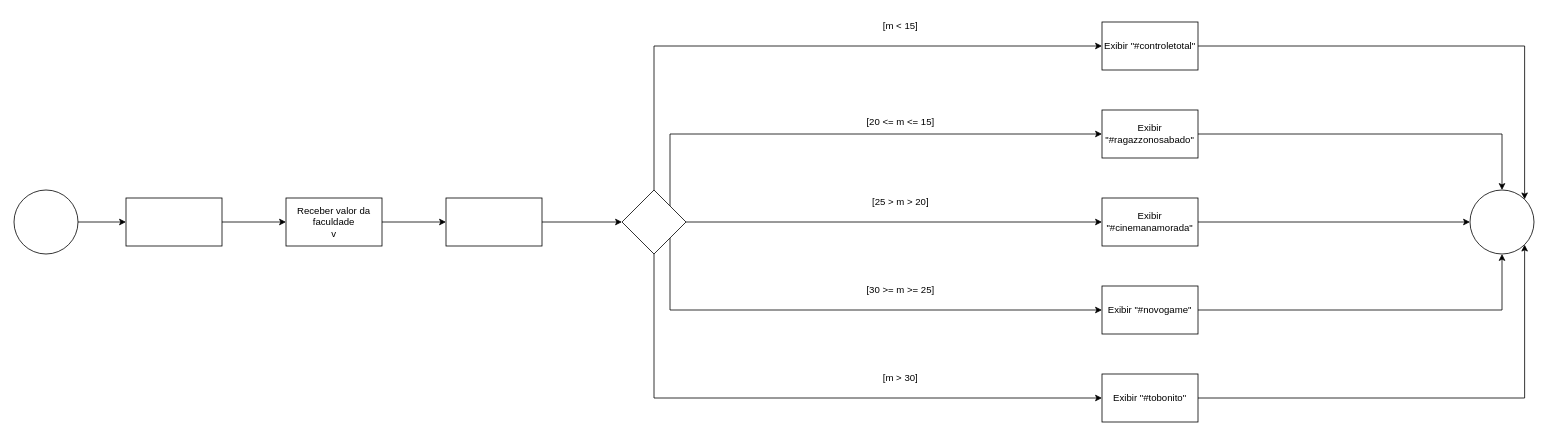
This 1548x436 diagram has some shape labels left out. Here are the shapes that lost their labels. From the top down, the centre of each, then its label:
At [173,221]: "Receber salário de estagiário s".
At [493,221]: "Calcular média salarial líquida m = (s-v)/30".
